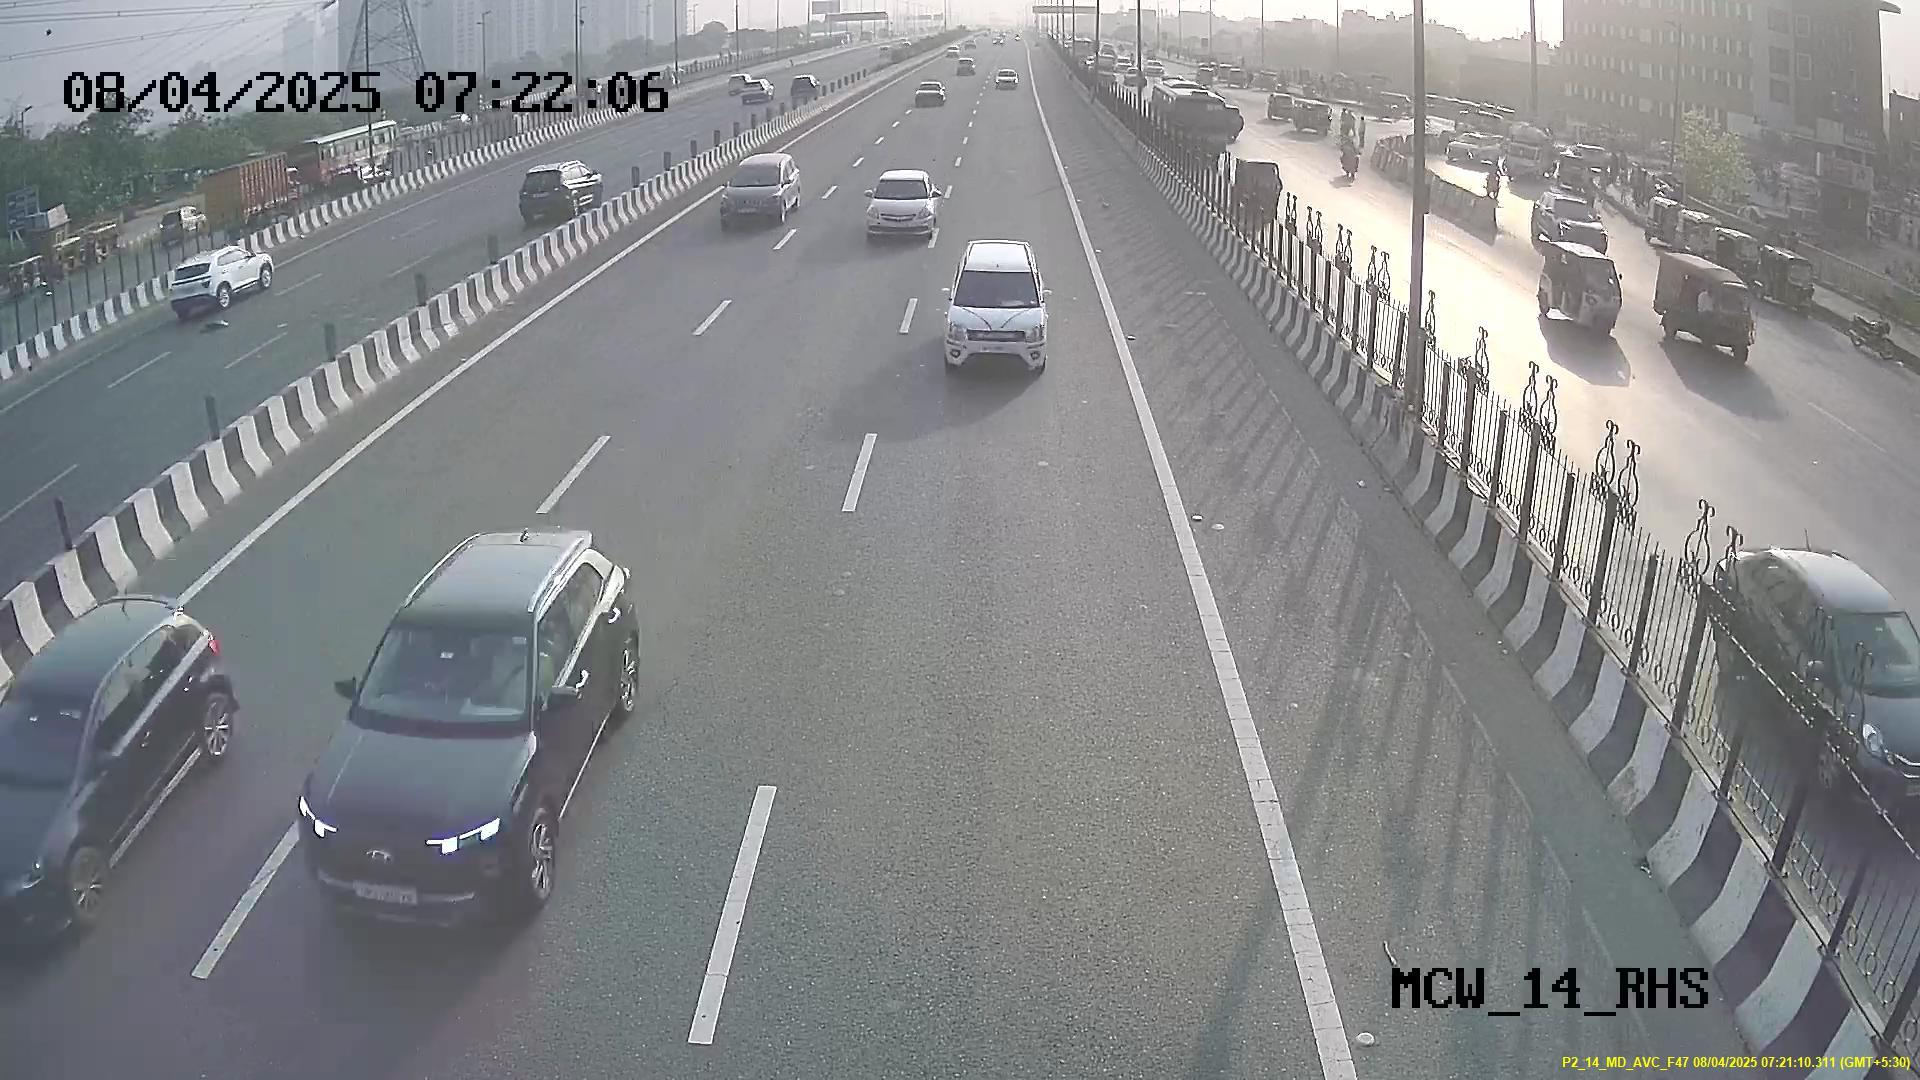car: (298, 592, 599, 930), (947, 249, 1047, 388), (864, 167, 938, 249), (716, 156, 798, 227)
